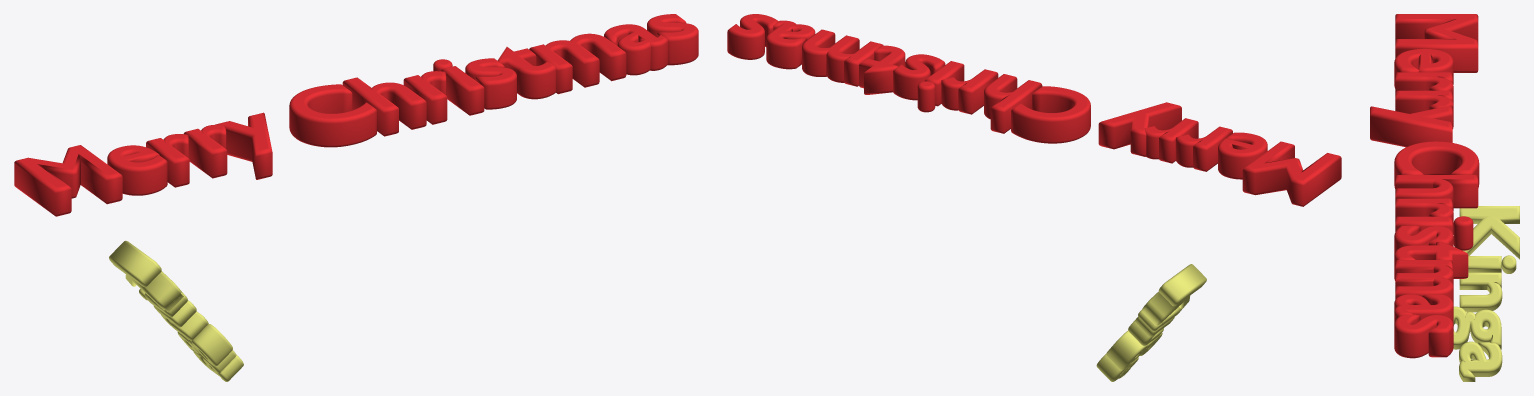
Rendered from Kinga.glb.
3 views of the same model, side by side, from view 1: azimuth 30°, elevation 25°; view 2: azimuth 150°, elevation 25°; view 3: azimuth 270°, elevation 25° (orthographic). The views are drawn at different scales.
Parts seen in each view (by area): view 1: Text, Text.001; view 2: Text, Text.001; view 3: Text, Text.001.
Boxes of the visible parts, bbox=[...] form: Text: bbox=[14, 14, 698, 216]; Text.001: bbox=[109, 240, 243, 381]; Text: bbox=[727, 14, 1341, 206]; Text.001: bbox=[1096, 264, 1206, 381]; Text: bbox=[1370, 14, 1479, 358]; Text.001: bbox=[1453, 206, 1519, 381].
Bounding box in the file's own units: 9.52 × 3.74 × 1.9.
